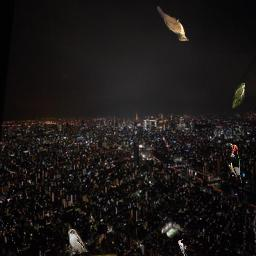Cuckoo: (157, 6, 189, 41), (232, 83, 245, 111)
Sparrow: (68, 229, 89, 254)
Woodpecker: (229, 143, 242, 183), (178, 239, 188, 256)
